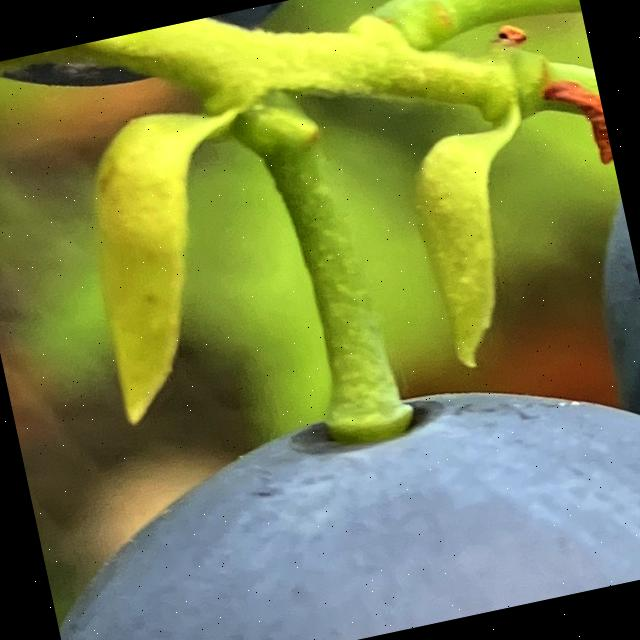Blueberries: (24, 335, 640, 640)
